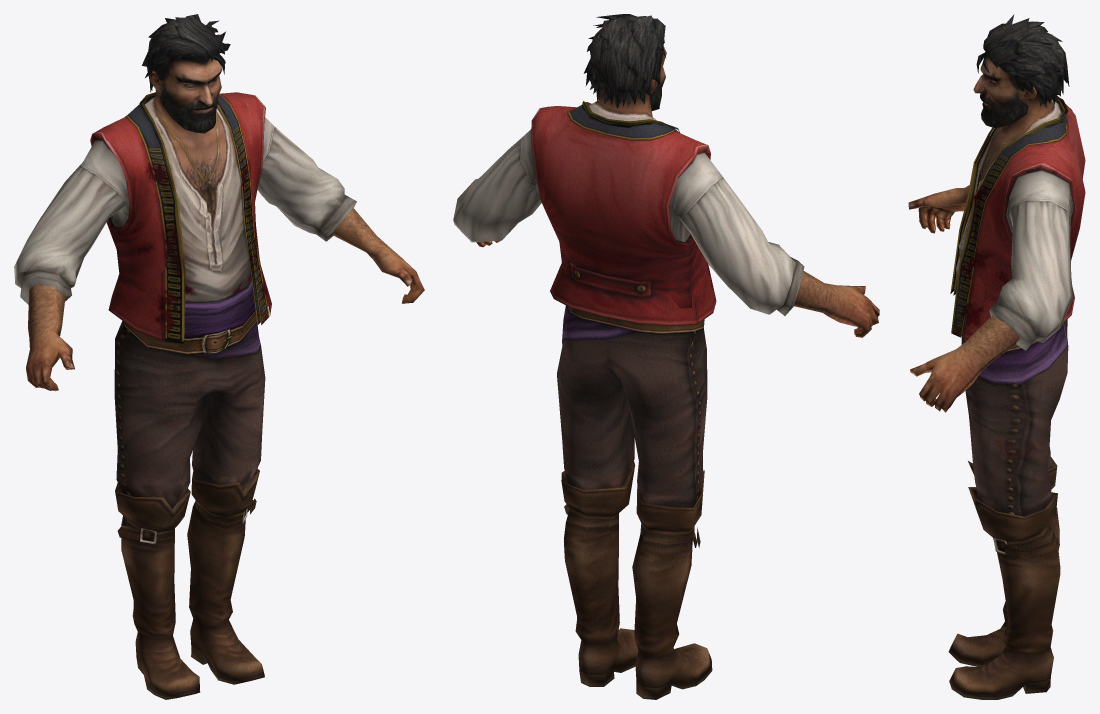
File: Pesent Farmer.fbx
3 renders of one model, left to right at view 1: azimuth 30°, elevation 25°; view 2: azimuth 150°, elevation 25°; view 3: azimuth 270°, elevation 25°, orthographic. The views are drawn at different scales.
Parts seen in each view (by area): view 1: Peasent_Farmer2; view 2: Peasent_Farmer2; view 3: Peasent_Farmer2.
Boxes of the visible parts, x1,y1,x2,y2 form: Peasent_Farmer2: [14, 14, 424, 699]; Peasent_Farmer2: [453, 14, 879, 699]; Peasent_Farmer2: [908, 14, 1085, 699].
Bounding box in the file's own units: 11.32 × 18.1 × 4.45.
Materials: 1 (1 with a texture image).
